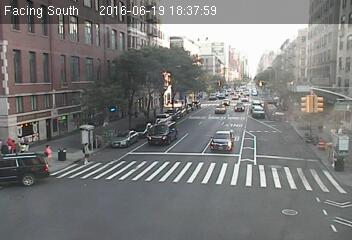neg: (277, 198, 295, 221), (325, 149, 342, 172), (116, 178, 133, 200), (132, 97, 148, 118), (256, 80, 272, 101), (241, 140, 257, 161), (113, 52, 128, 72), (227, 78, 241, 98), (268, 39, 282, 57), (174, 29, 187, 48), (75, 112, 87, 129), (193, 153, 205, 170), (161, 118, 173, 134), (196, 75, 208, 91), (307, 98, 319, 114), (107, 98, 119, 113), (246, 53, 257, 68), (312, 133, 323, 147), (179, 195, 189, 208), (308, 36, 316, 47), (218, 48, 226, 58)
pos: (78, 141, 97, 167), (42, 139, 58, 161)
